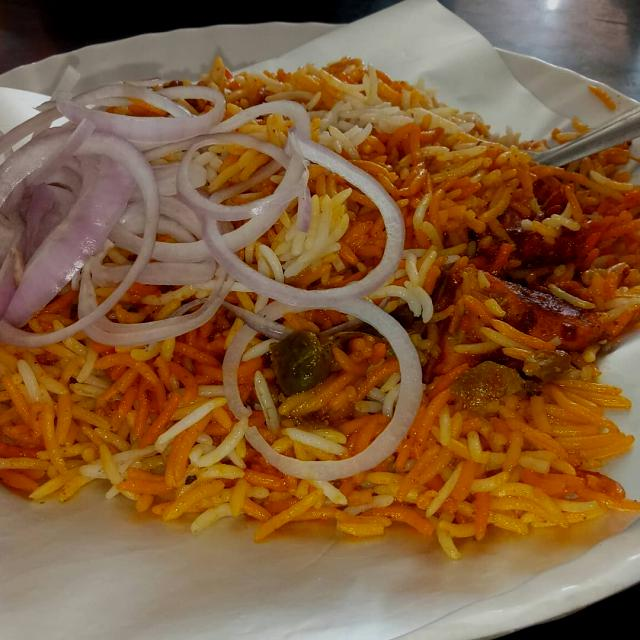biryani: (4, 92, 602, 524)
